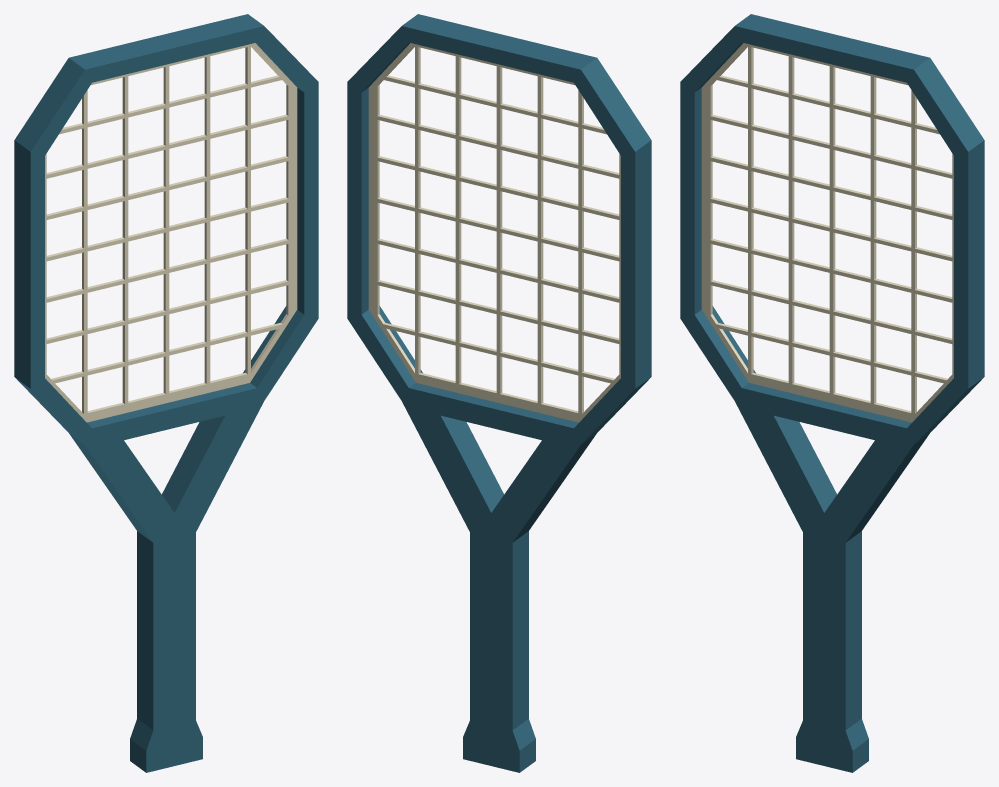
3 views of the same model, side by side, from view 1: azimuth 30°, elevation 25°; view 2: azimuth 150°, elevation 25°; view 3: azimuth 330°, elevation 25° (orthographic).
Parts seen in each view (by area): view 1: WholeOpenThroatFrameAndLongHandle, WholeConnectedFortyEightHoleLattice; view 2: WholeOpenThroatFrameAndLongHandle, WholeConnectedFortyEightHoleLattice; view 3: WholeOpenThroatFrameAndLongHandle, WholeConnectedFortyEightHoleLattice.
Part boxes in pixels (left/top/right/bottom): WholeOpenThroatFrameAndLongHandle: left=14, top=14, right=318, bottom=772; WholeConnectedFortyEightHoleLattice: left=45, top=43, right=297, bottom=422; WholeOpenThroatFrameAndLongHandle: left=347, top=14, right=651, bottom=772; WholeConnectedFortyEightHoleLattice: left=368, top=43, right=620, bottom=422; WholeOpenThroatFrameAndLongHandle: left=680, top=14, right=984, bottom=772; WholeConnectedFortyEightHoleLattice: left=701, top=43, right=953, bottom=422.
Bounding box in the file's own units: 0.244 × 0.582 × 0.024.
